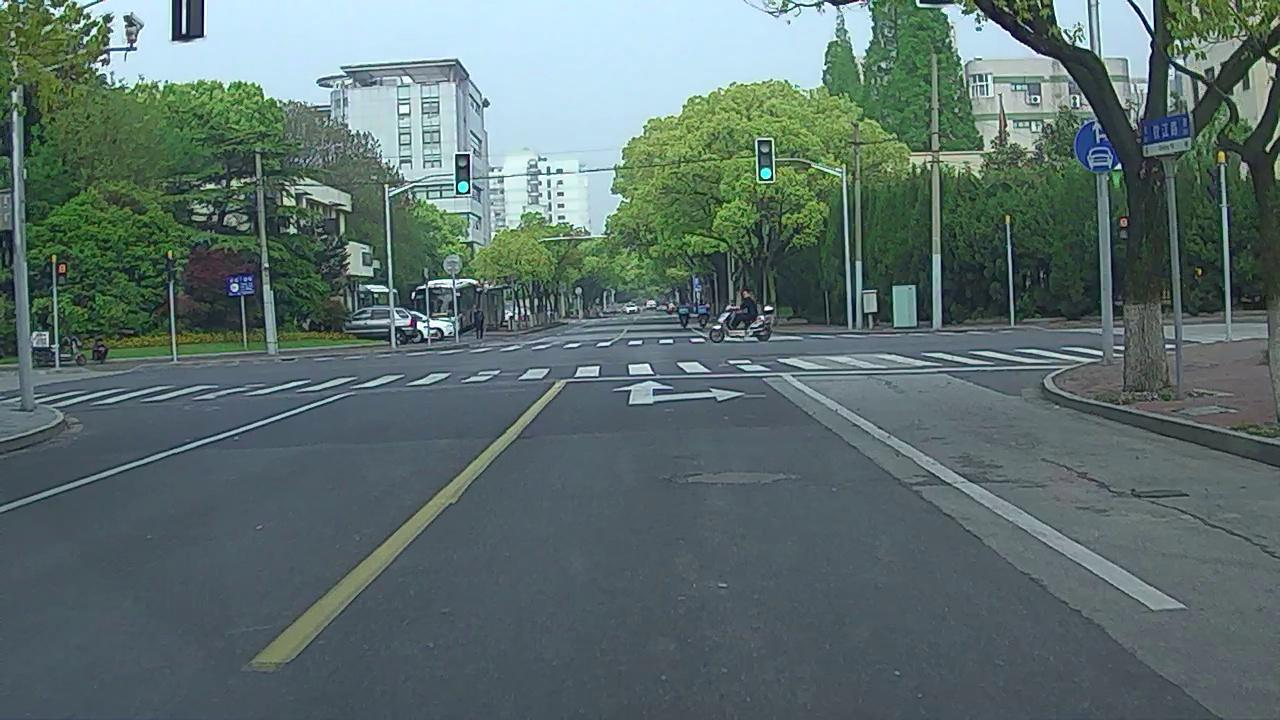traffic_light: (759, 139, 774, 181), (455, 154, 470, 195)
